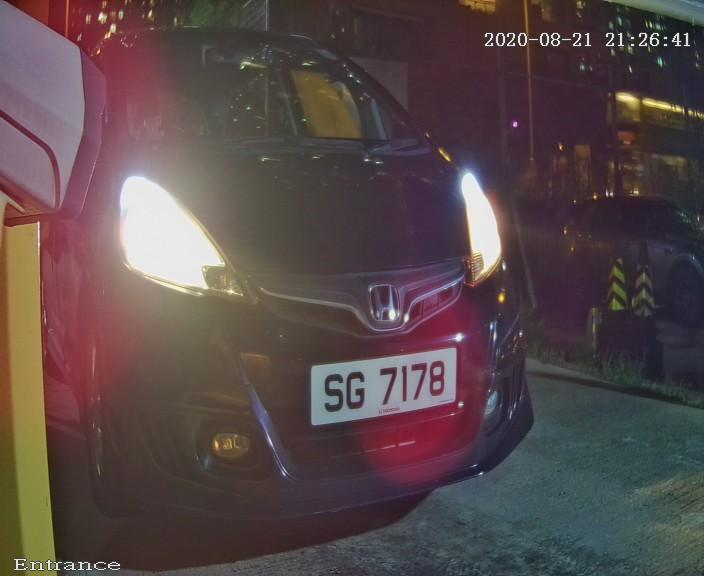Car: (19, 11, 566, 569)
License Plate: (293, 348, 463, 427)
